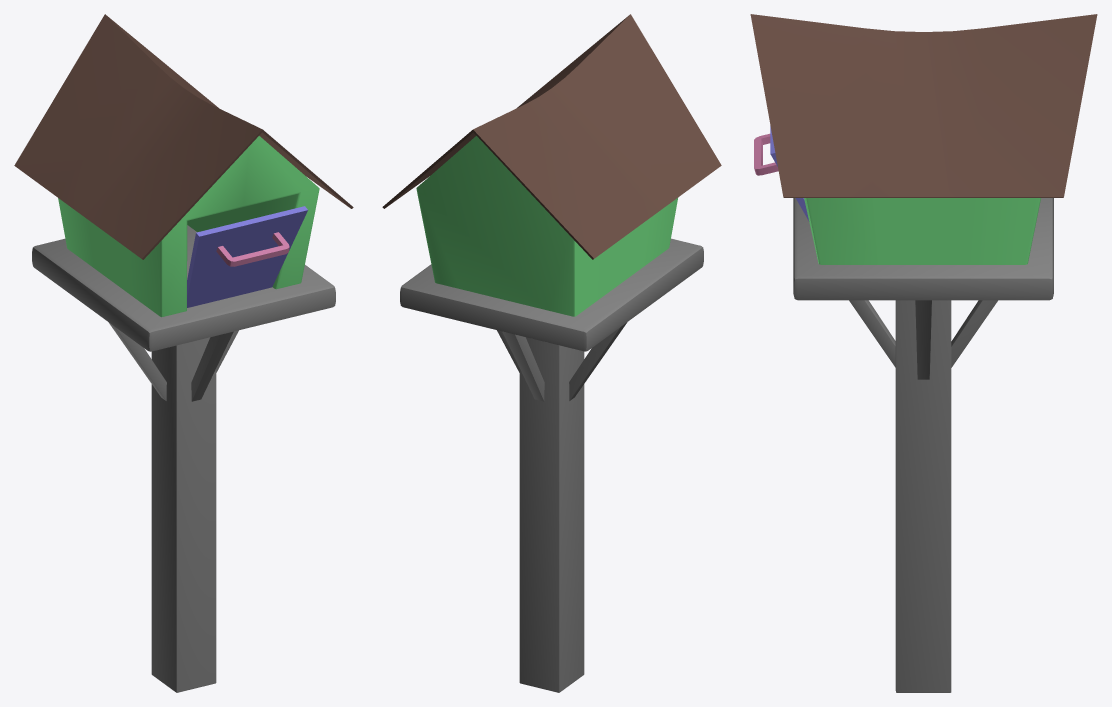
Rendered from Mail box.fbx.
3 views of the same model, side by side, from view 1: azimuth 30°, elevation 25°; view 2: azimuth 150°, elevation 25°; view 3: azimuth 270°, elevation 25° (orthographic). The views are drawn at different scales.
Visible parts, largest first — view 1: Line001, Box002, Box001; view 2: Line001, Box002; view 3: Line001, Box002, Box001.
Part boxes in pixels (<box>): Line001: <box>14,14,353,317</box>; Box002: <box>32,225,335,692</box>; Box001: <box>187,206,307,307</box>; Line001: <box>382,14,721,316</box>; Box002: <box>400,238,703,692</box>; Line001: <box>750,14,1097,264</box>; Box002: <box>793,198,1053,692</box>; Box001: <box>754,126,809,221</box>.
Size of the model in its own units: 48.15 by 132 by 62.05.
